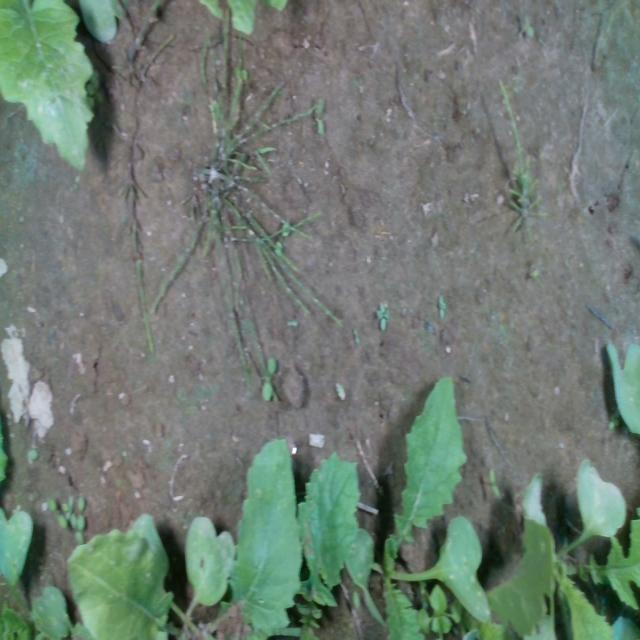weed: (375, 298, 389, 332), (436, 289, 446, 320), (352, 326, 360, 347)
